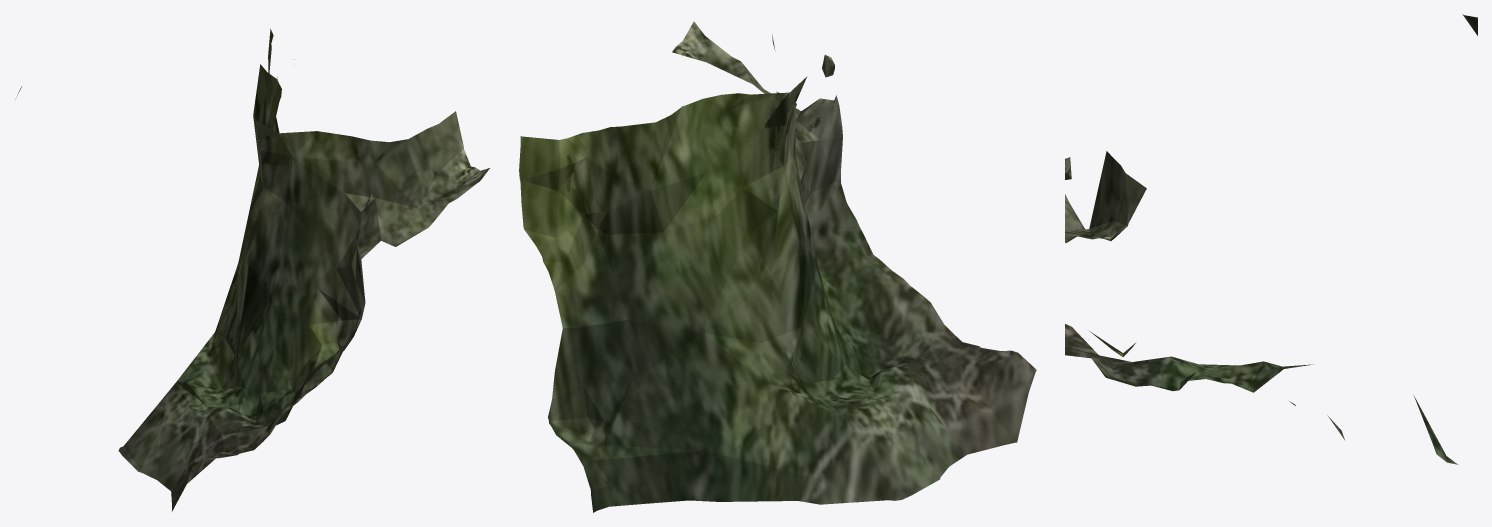
3 views of the same model, side by side, from view 1: azimuth 30°, elevation 25°; view 2: azimuth 150°, elevation 25°; view 3: azimuth 270°, elevation 25° (orthographic). The views are drawn at different scales.
Size of the model in its own units: 2.95 by 2.95 by 2.95.
3 materials, 3 textured.
